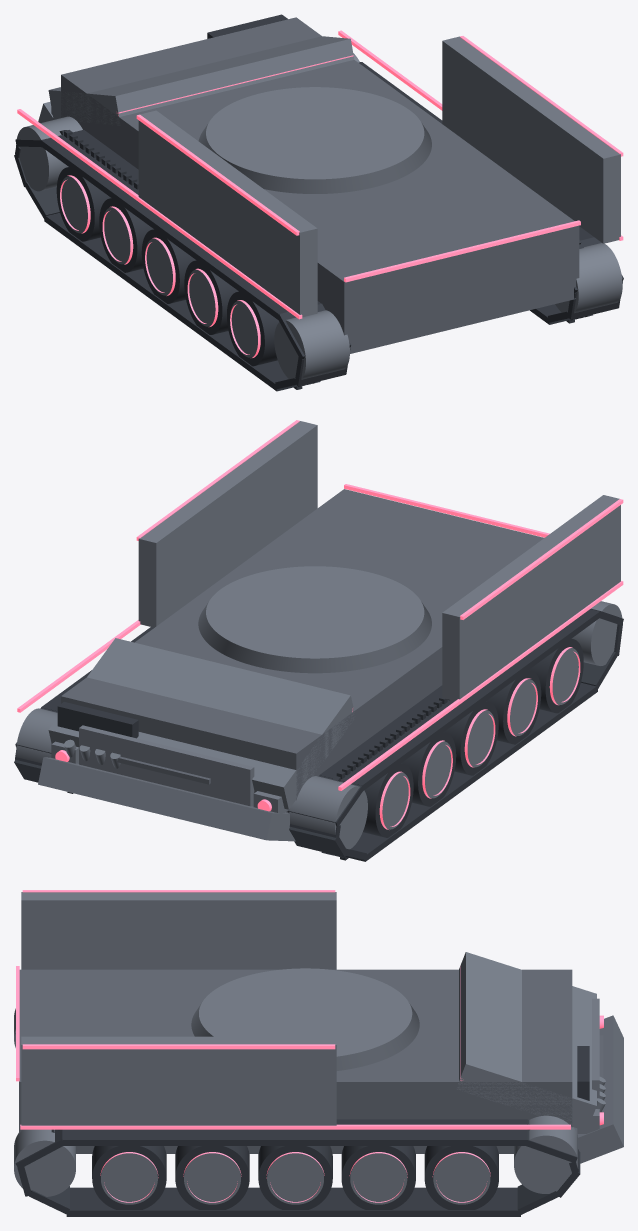
File: Automatic_hull.glb
3 views of the same model, one above another, from view 1: azimuth 30°, elevation 25°; view 2: azimuth 150°, elevation 25°; view 3: azimuth 270°, elevation 25° (orthographic). The views are drawn at different scales.
Parts seen in each view (by area): view 1: Automatic_Hull; view 2: Automatic_Hull; view 3: Automatic_Hull.
Boxes of the visible parts, bbox=[...] form: Automatic_Hull: bbox=[14, 14, 623, 391]; Automatic_Hull: bbox=[14, 420, 623, 861]; Automatic_Hull: bbox=[14, 890, 623, 1216].
Size of the model in its own units: 2.97 by 1.57 by 4.92.
